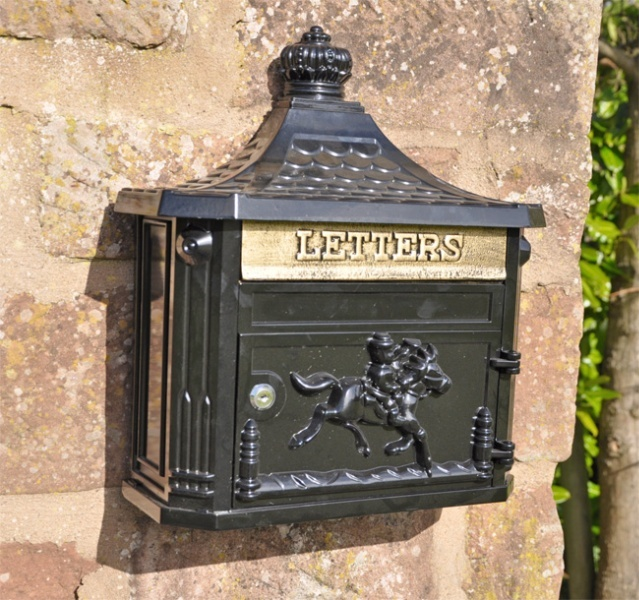text: (449, 230, 465, 263), (305, 230, 320, 263), (321, 230, 336, 263), (337, 230, 352, 263), (353, 230, 368, 263), (369, 230, 384, 263), (385, 230, 400, 263), (401, 230, 416, 263), (417, 230, 432, 263), (433, 230, 448, 263), (295, 230, 304, 263)
